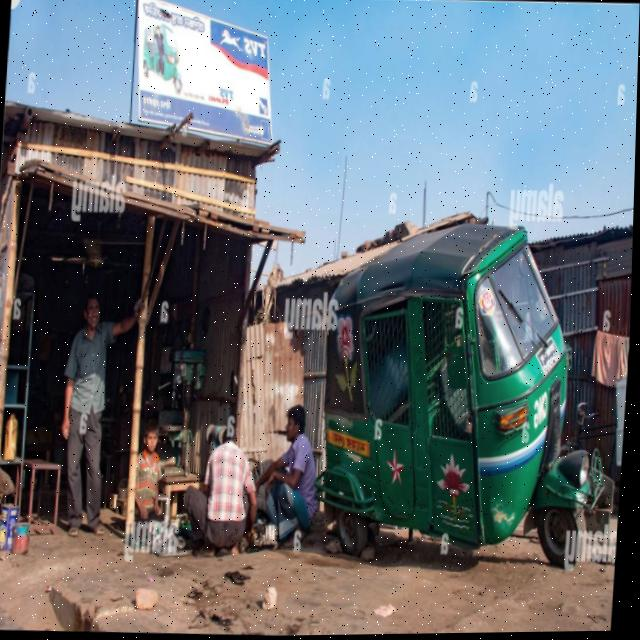cng: (283, 202, 599, 633)
